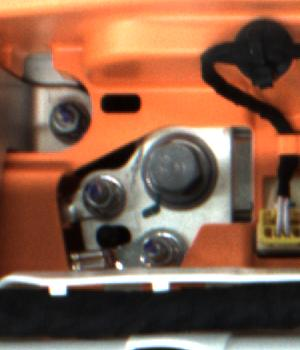nut_b: (141, 127, 224, 212)
screw_s: (44, 98, 88, 144), (84, 175, 133, 214), (140, 238, 174, 267)
